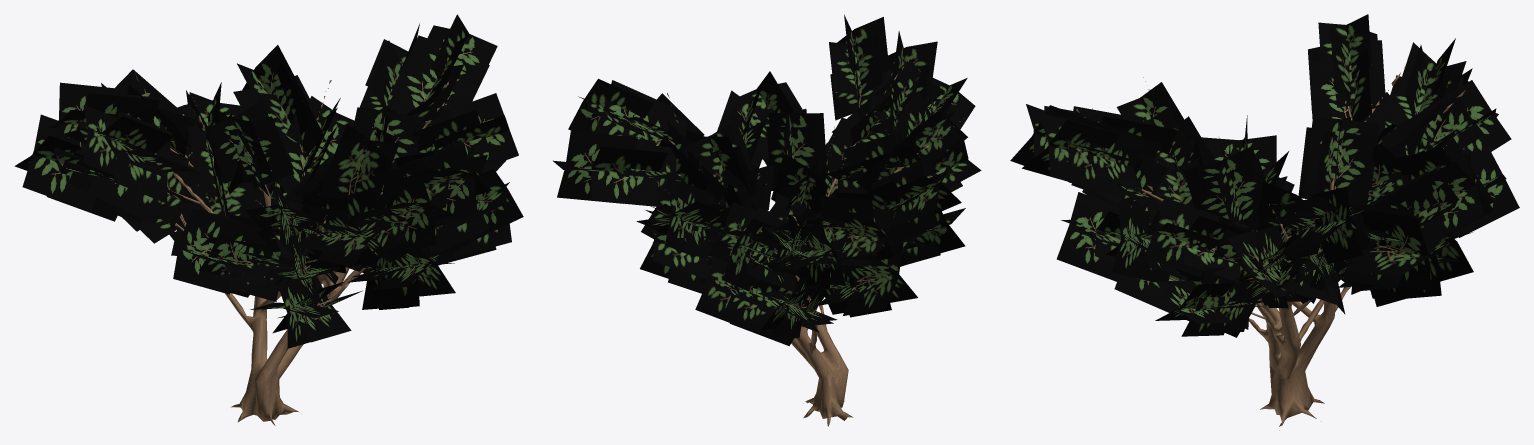
Rendered from Arbousier_V10_4_LOD0.fbx.
The picture shows the model from 3 angles, left to right: view 1: azimuth 30°, elevation 25°; view 2: azimuth 150°, elevation 25°; view 3: azimuth 270°, elevation 25°; orthographic projection. The views are drawn at different scales.
Parts seen in each view (by area): view 1: Arbousier_V10_4_LOD0; view 2: Arbousier_V10_4_LOD0; view 3: Arbousier_V10_4_LOD0.
Part boxes in pixels (<box>): Arbousier_V10_4_LOD0: <box>14,14,523,425</box>; Arbousier_V10_4_LOD0: <box>553,14,981,426</box>; Arbousier_V10_4_LOD0: <box>1010,14,1519,430</box>.
Size of the model in its own units: 280 by 210 by 285.
